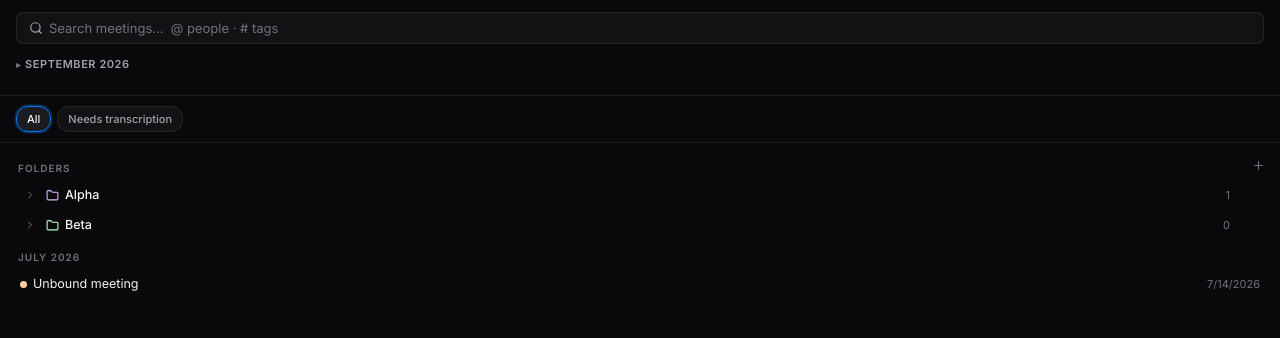
it: MeetingsList folders › shows a folder's bound meeting when expanded
The width and height of the screenshot is (1280, 338).
What coordinates should you click on to do the following:
click the text "Alpha"
I would click on:
 (82, 194)
Its box is [65,187,99,202].
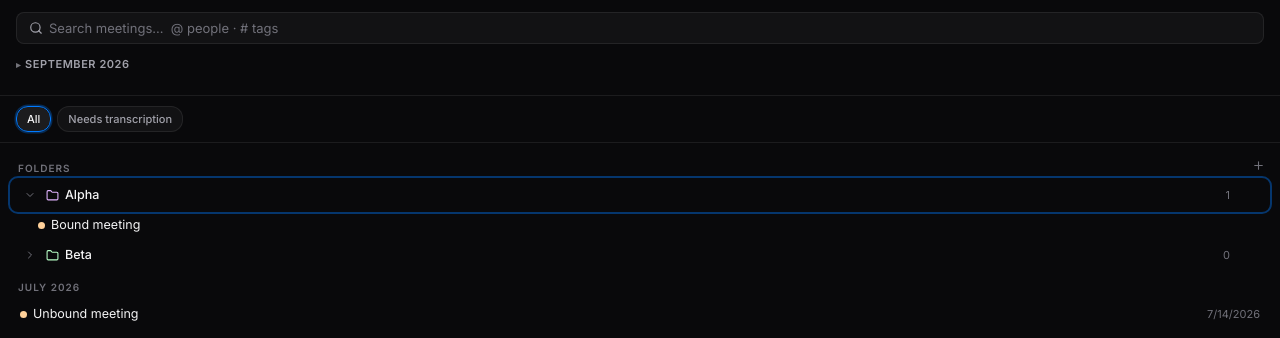
Now the text "Bound meeting" is shown, box [51,217,140,232]
